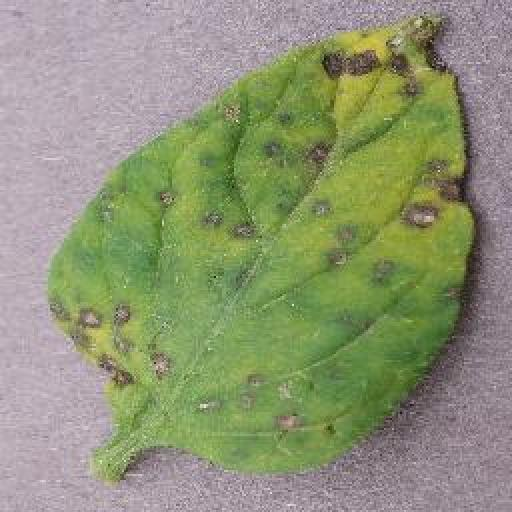Septoria: (46, 12, 476, 475)
